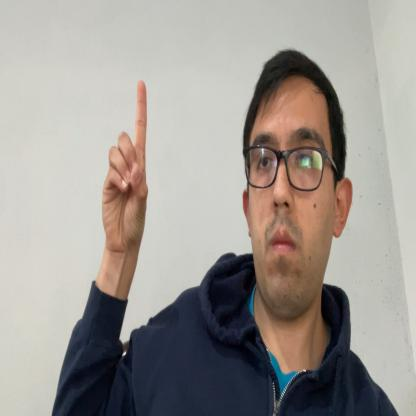D: (102, 80, 148, 264)
